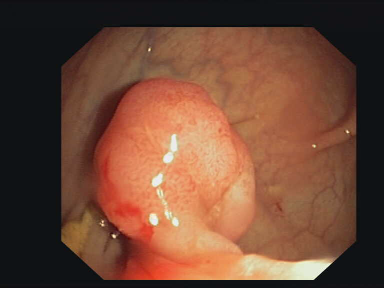polyp: (75, 61, 275, 253)
